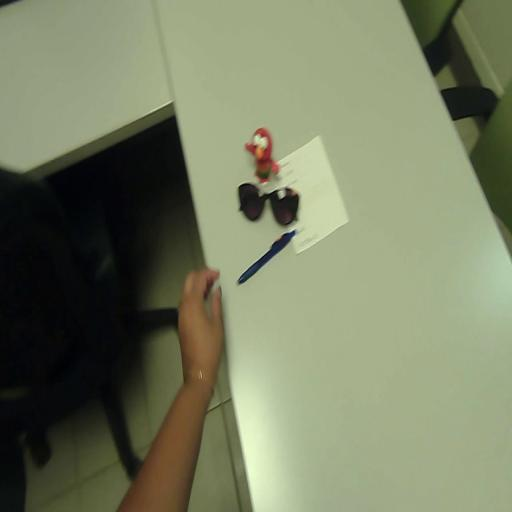pen: (237, 230, 296, 284)
